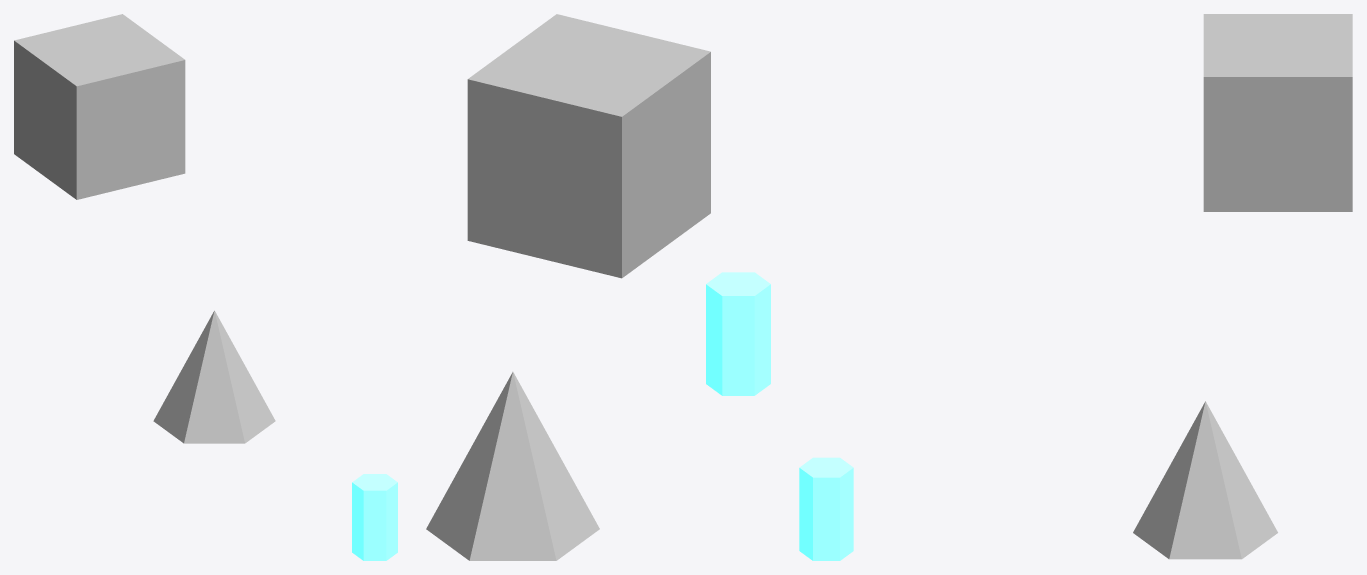
Rendered from Level1.glb.
3 views of the same model, side by side, from view 1: azimuth 30°, elevation 25°; view 2: azimuth 150°, elevation 25°; view 3: azimuth 270°, elevation 25° (orthographic). The views are drawn at different scales.
Visible parts, largest first — view 1: FallingCube, Test_comps, GlowyThing; view 2: FallingCube, Test_comps, GlowyThing; view 3: FallingCube, Test_comps, GlowyThing.
Part boxes in pixels (x1=…): FallingCube: x1=14, y1=14, x2=185, y2=199; Test_comps: x1=153, y1=310, x2=275, y2=443; GlowyThing: x1=352, y1=474, x2=397, y2=560; FallingCube: x1=467, y1=14, x2=710, y2=278; Test_comps: x1=426, y1=372, x2=599, y2=560; GlowyThing: x1=706, y1=272, x2=770, y2=395; FallingCube: x1=1203, y1=14, x2=1352, y2=211; Test_comps: x1=1133, y1=401, x2=1277, y2=559; GlowyThing: x1=799, y1=457, x2=853, y2=560.
Size of what is drawn, in the model's own units: 8.49 by 16.89 by 18.57.
